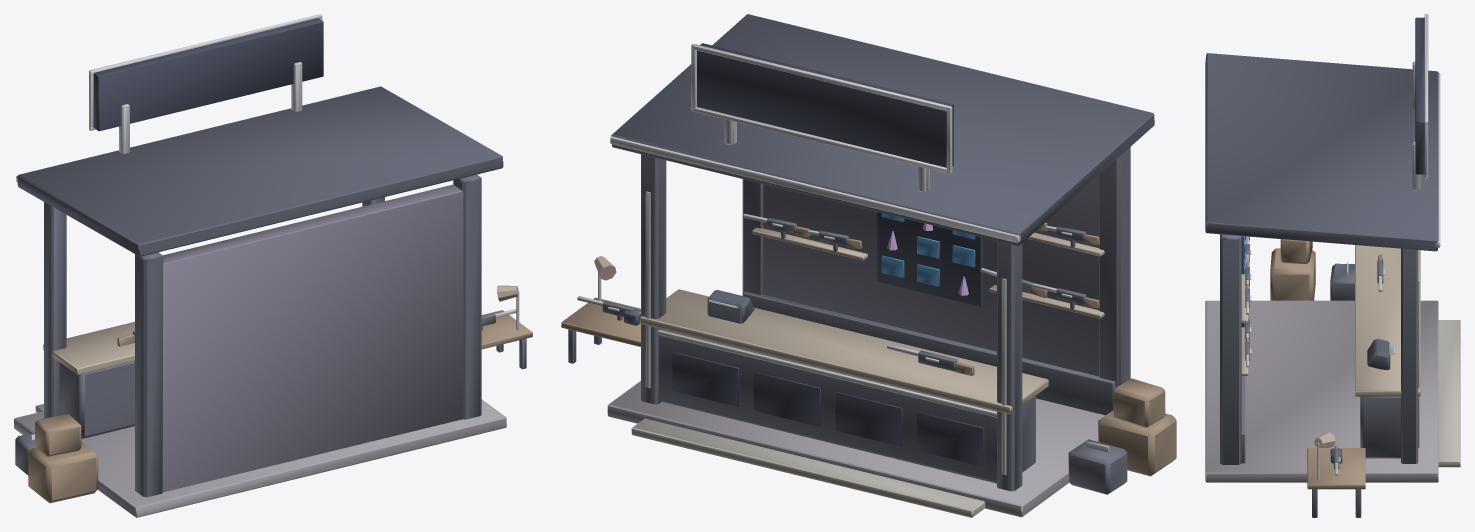
Rendered from armory_stall.glb.
3 views of the same model, side by side, from view 1: azimuth 30°, elevation 25°; view 2: azimuth 150°, elevation 25°; view 3: azimuth 270°, elevation 25° (orthographic). The views are drawn at different scales.
Visible parts, largest first — view 1: armory_stall; view 2: armory_stall; view 3: armory_stall.
Part boxes in pixels (x1,y1,x2,y2): armory_stall: (14,14,532,517); armory_stall: (561,14,1176,517); armory_stall: (1205,14,1460,517).
Size of the model in its own units: 7.6 by 4.98 by 3.5.
